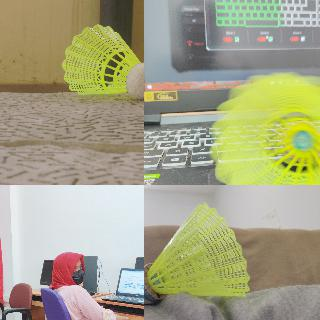shuttlecock: (206, 70, 319, 184), (144, 202, 249, 302), (62, 24, 143, 98)
